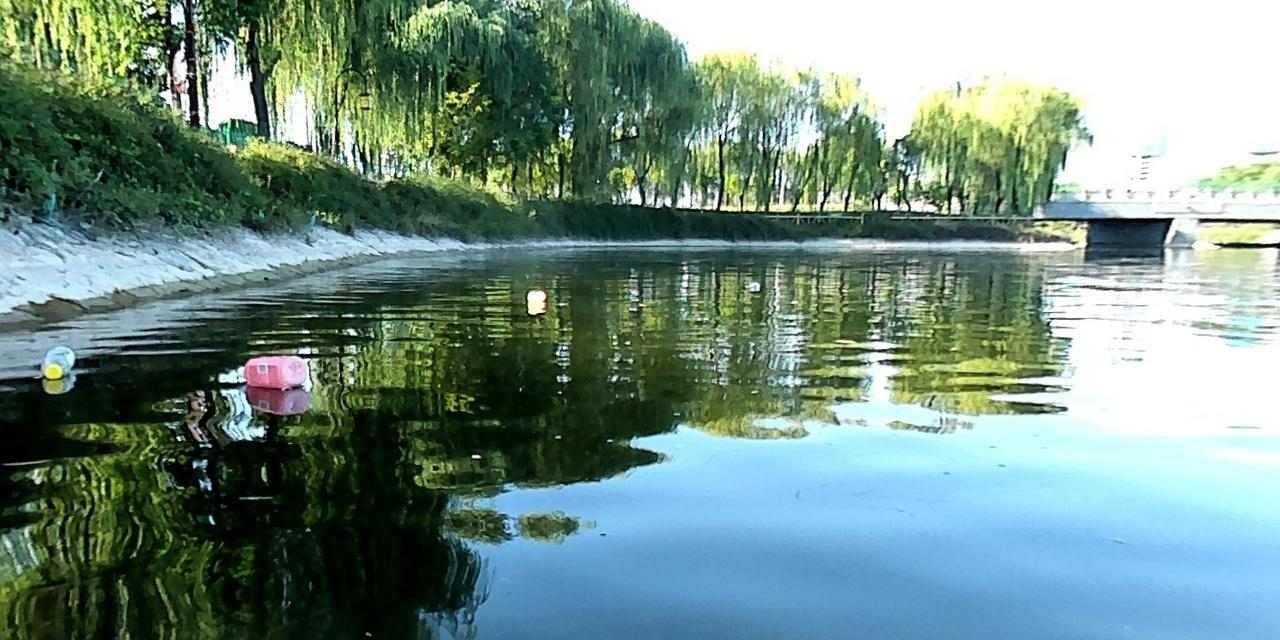bottle: (232, 350, 309, 387), (37, 340, 76, 381), (522, 285, 546, 303)
